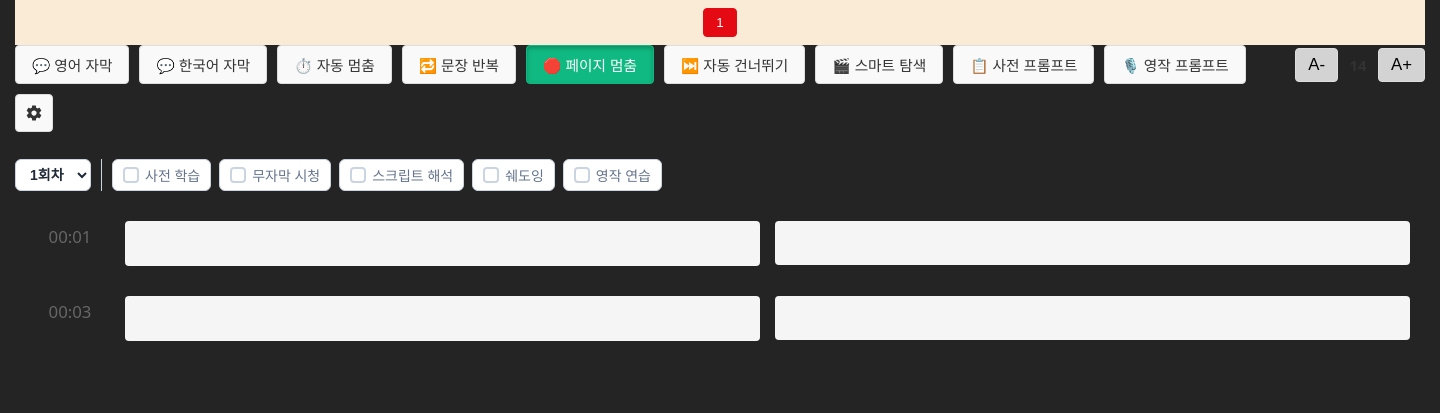
Test case: 4.2-6 storage error notices › shows the resource-exhausted notice when saving the checklist fails, and keeps the subtitles working
Click the text "사전 학습": (173, 175) 145,165 -> 200,185
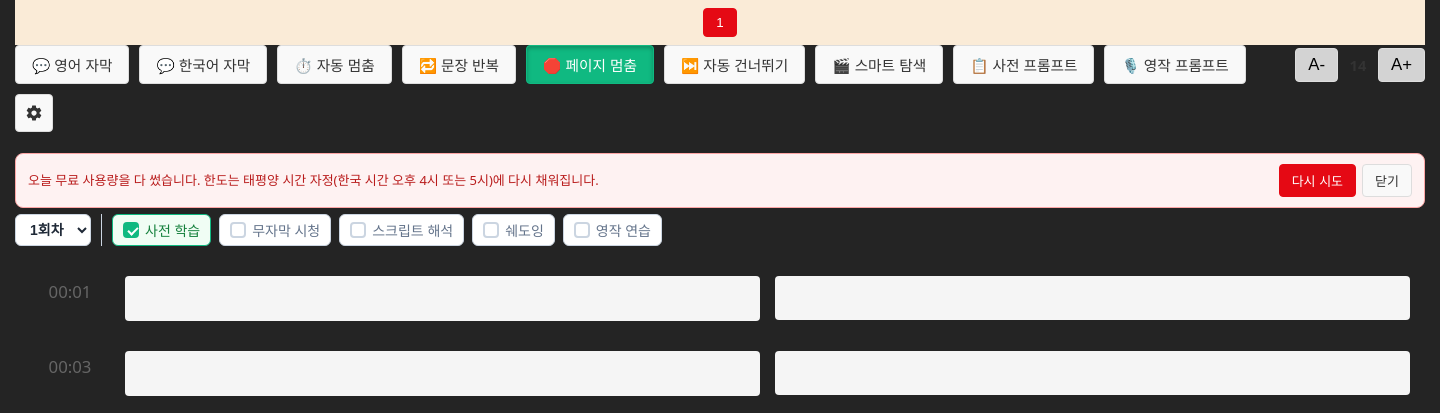
Expected: the text "Sentence One" is shown, 125,276 -> 760,321
Expected: the message shows "오늘 무료 사용량을 다 썼습니다. 한도는 태평양 시간 자정(한국 시간 오후 4시 또는 5시)에 다시 채워집니다.", 28,171 -> 599,189
